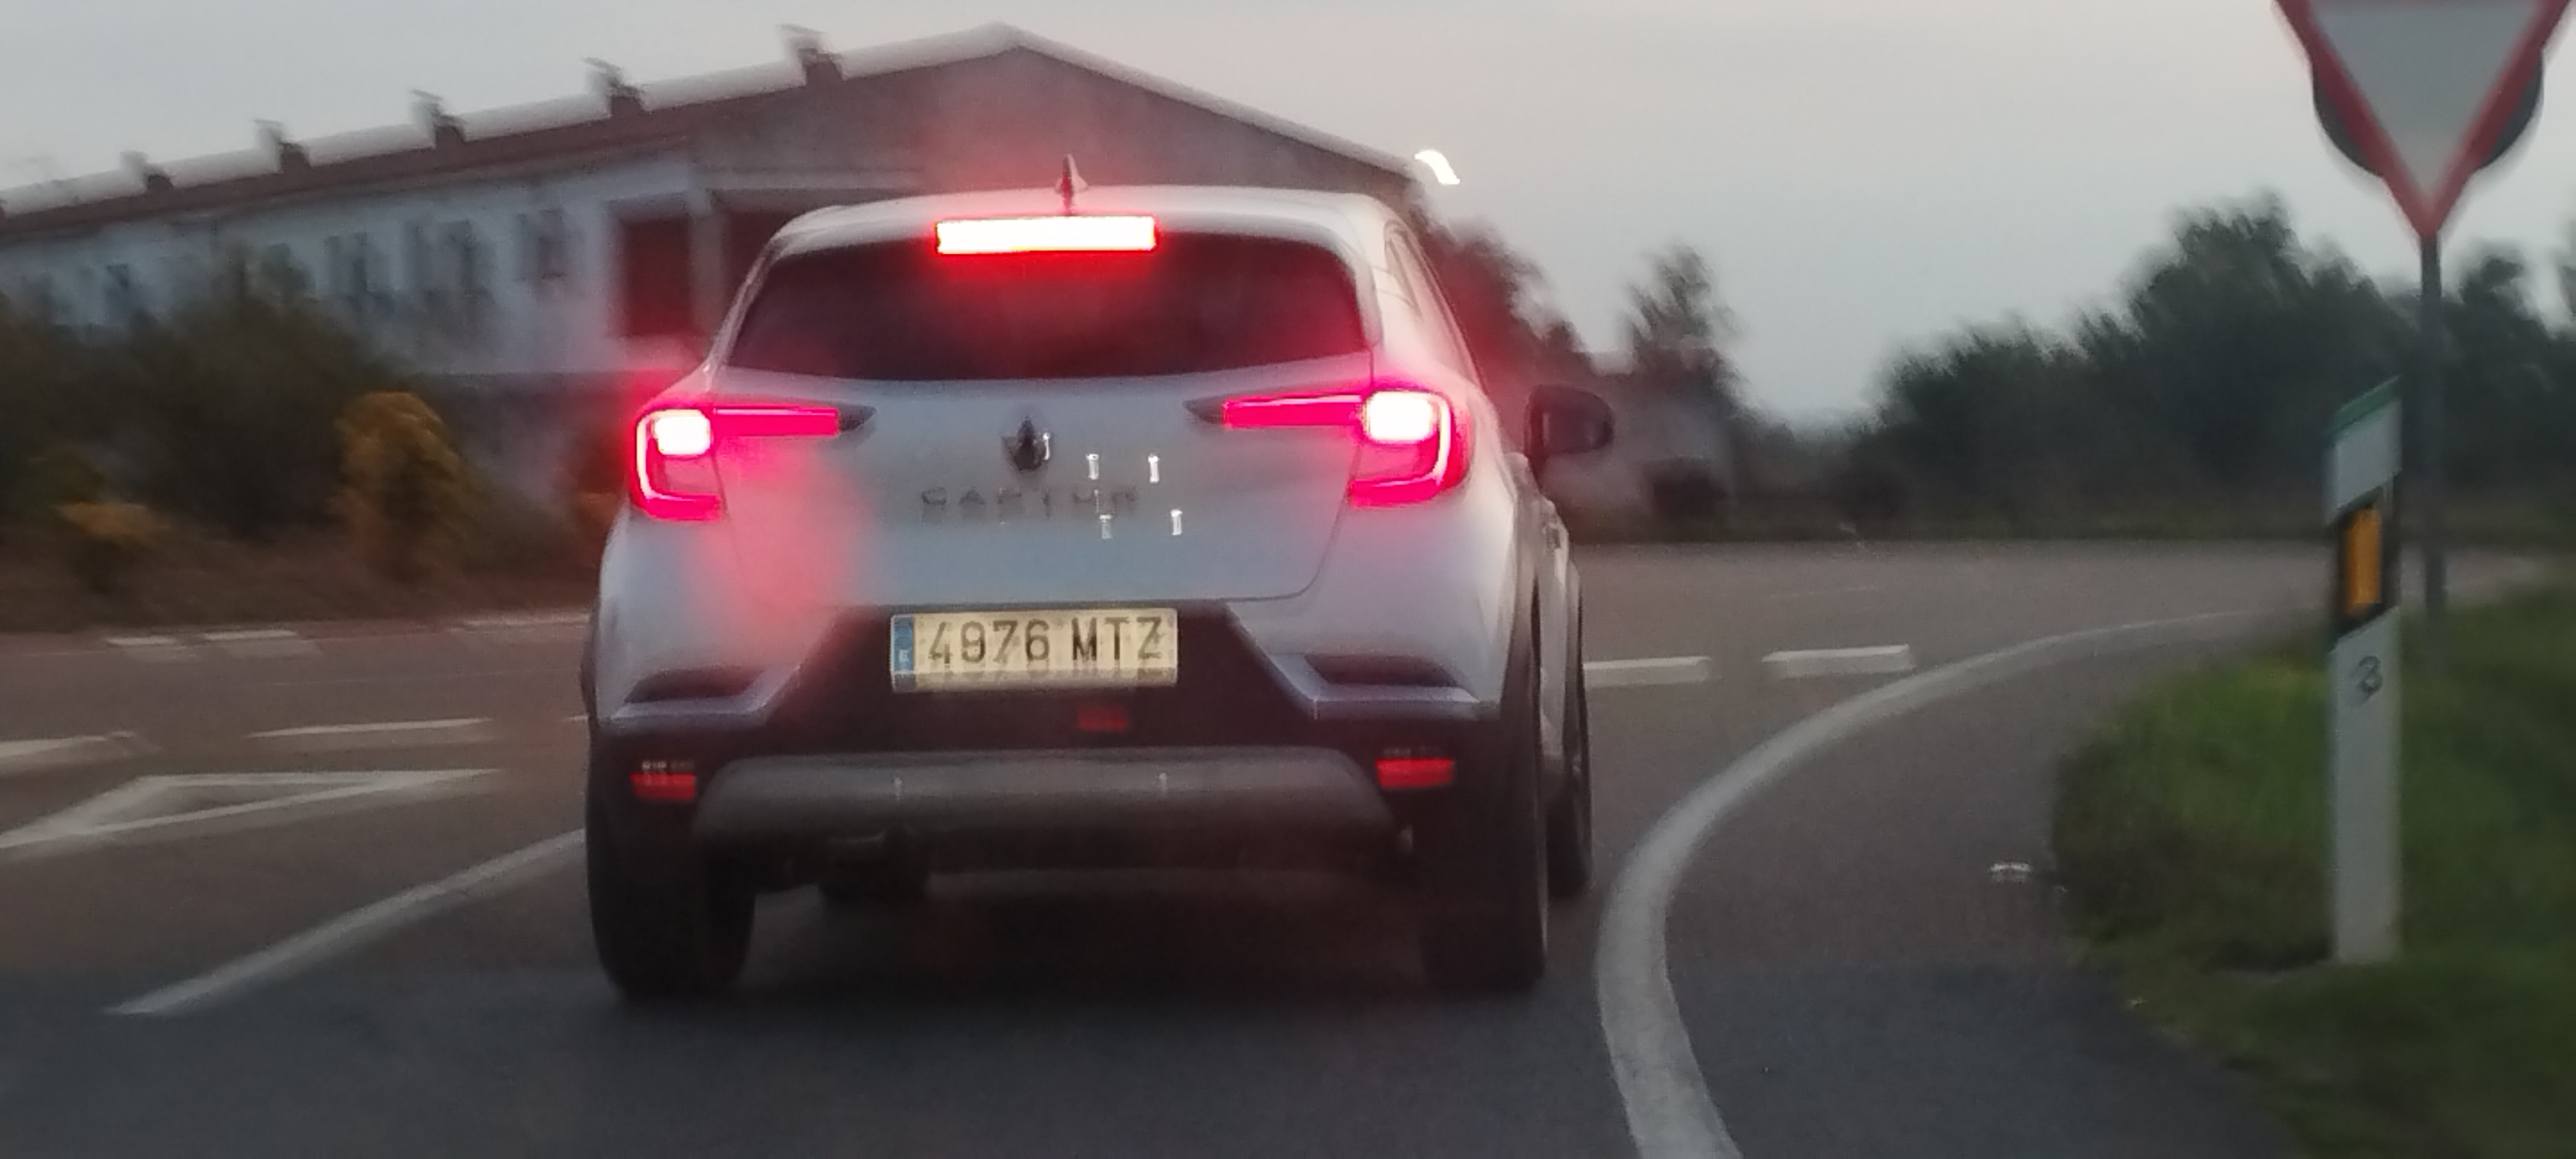Car: (580, 181, 1596, 997)
Plate: (888, 612, 1177, 681)
